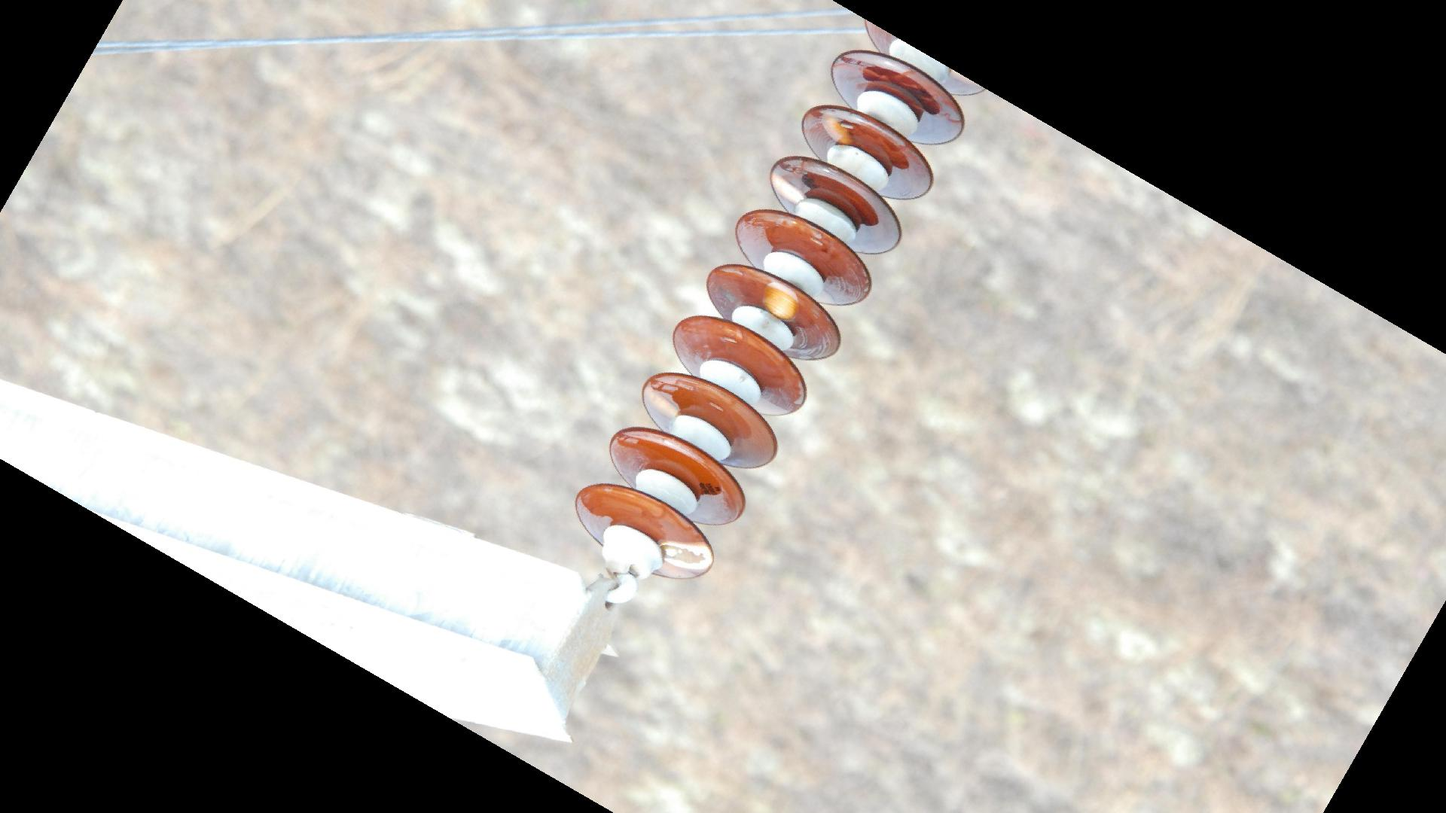insulator: (568, 43, 973, 586)
insulator_flashover: (657, 538, 715, 573), (759, 280, 801, 324), (644, 382, 680, 419), (770, 170, 807, 206), (819, 109, 854, 147)
